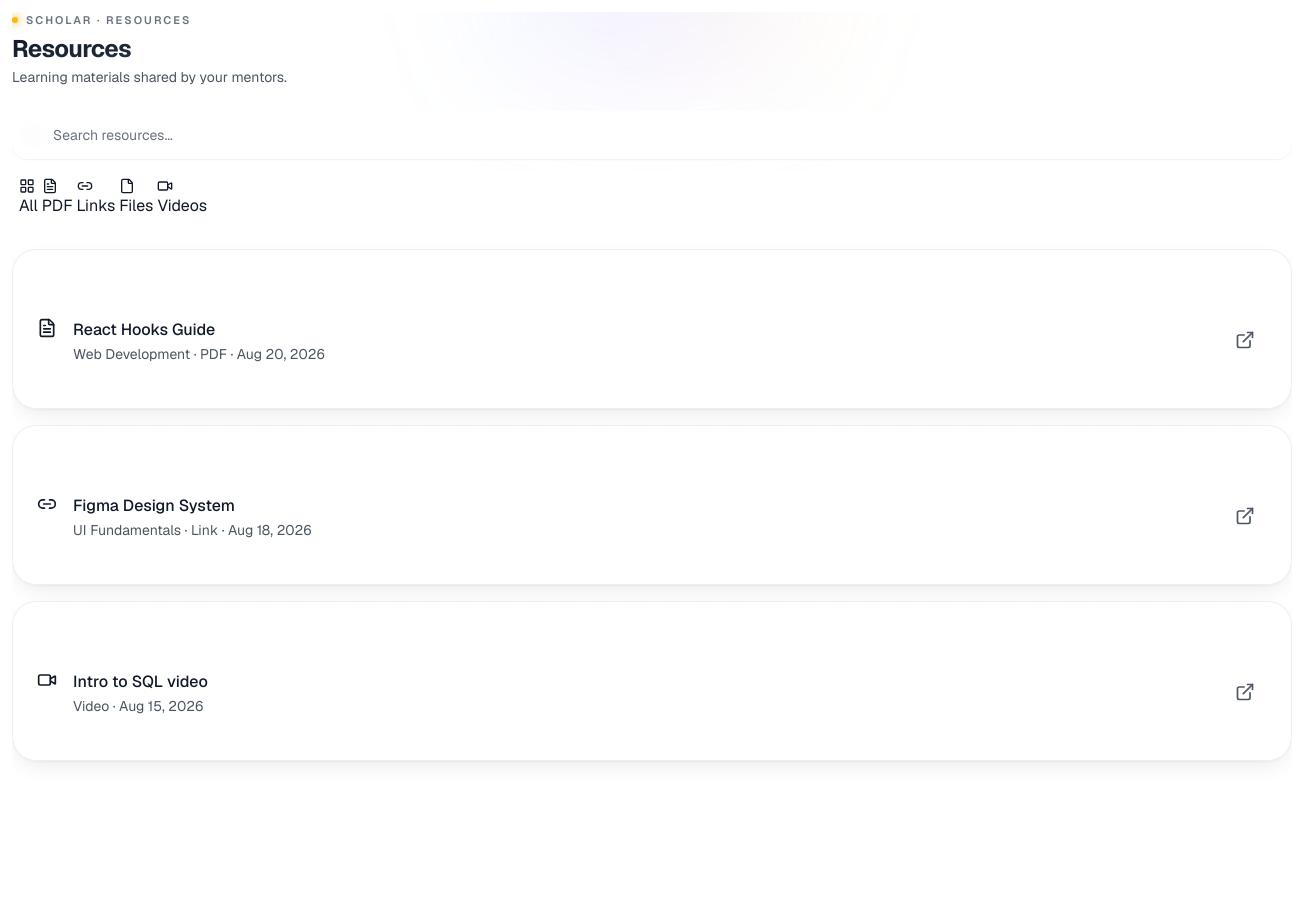
ResourcesView › shows no-results empty state with clear filters button
Type "zzz-no-match" into the search field labelled "Search resources". click: coordinates (652, 134)
box: [12,110,1292,158]
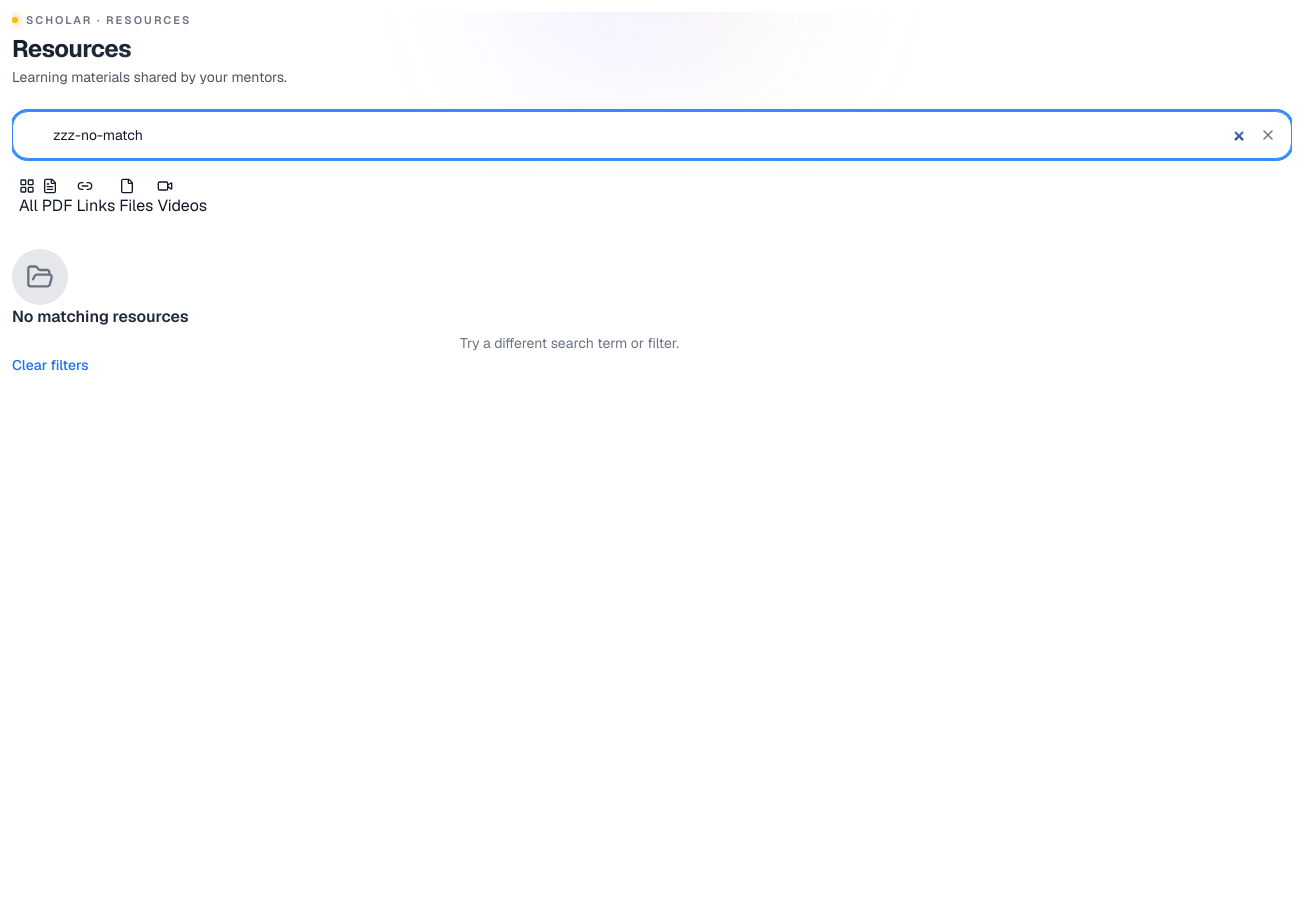
Result: the heading "No matching resources" is shown at [12,306,189,326]
Click the button "Clear filters". click: coordinates (50, 364)
box: [12,354,88,374]
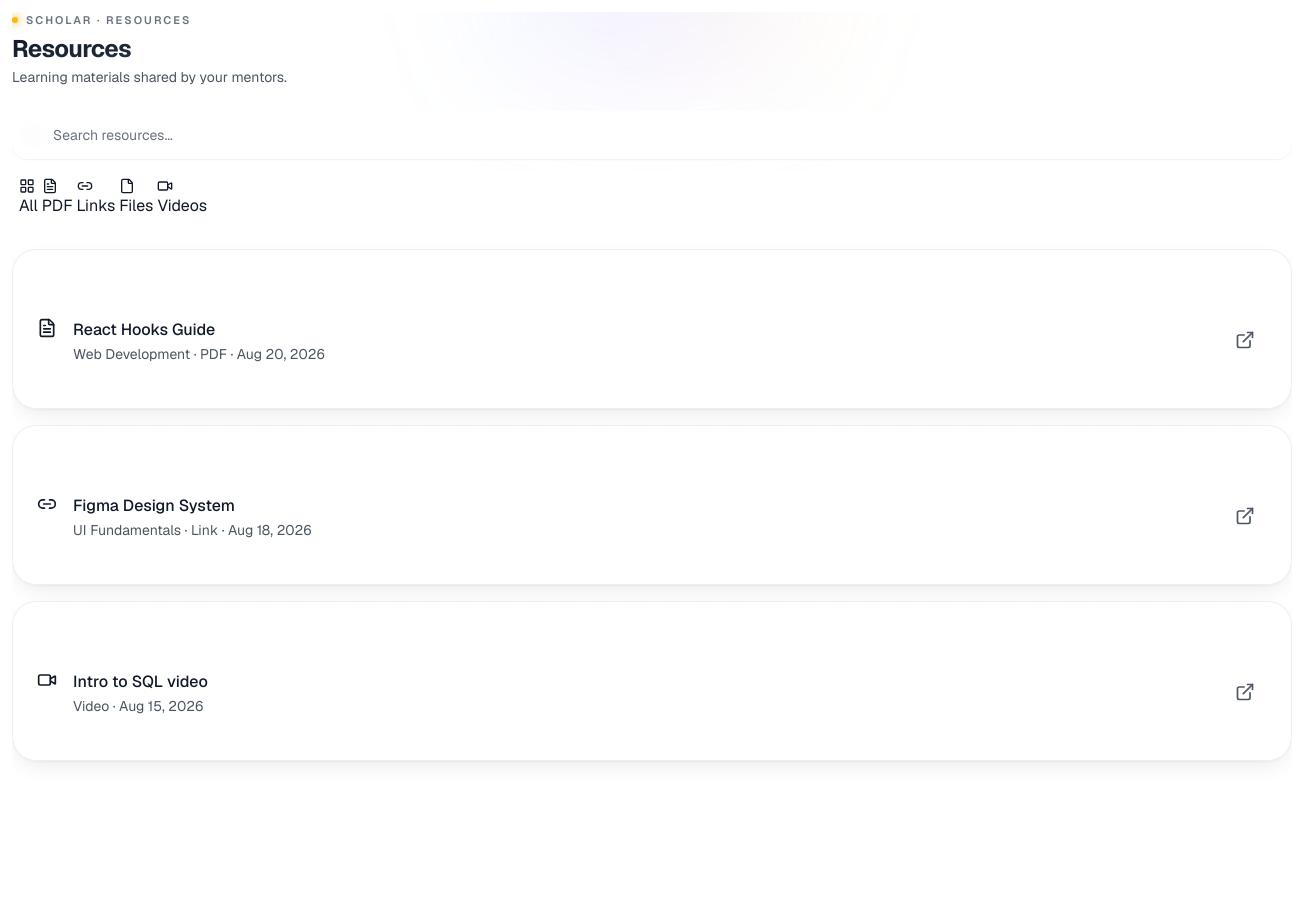
Result: the text "React Hooks Guide" is shown at [73,318,215,342]
